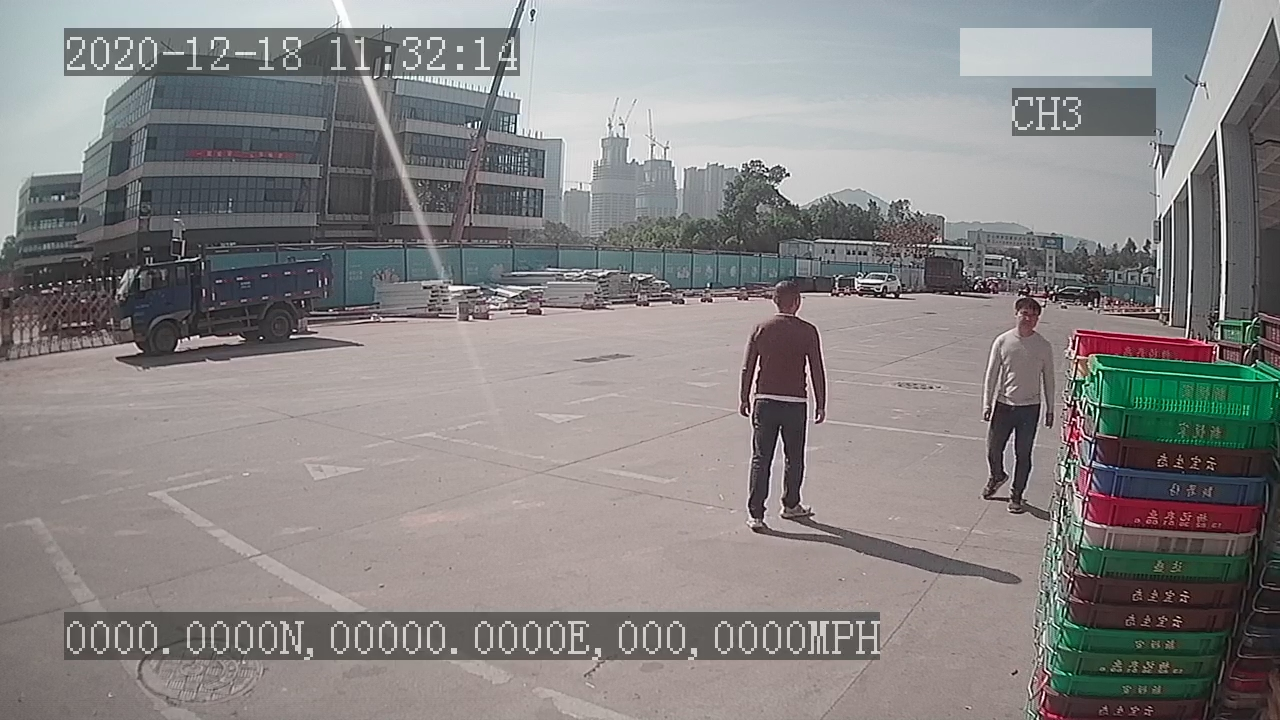person: (738, 280, 830, 530), (977, 290, 1056, 513)
